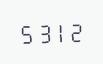five: (18, 21, 33, 44)
one: (50, 20, 65, 43)
three: (34, 20, 49, 44)
two: (66, 19, 81, 42)
